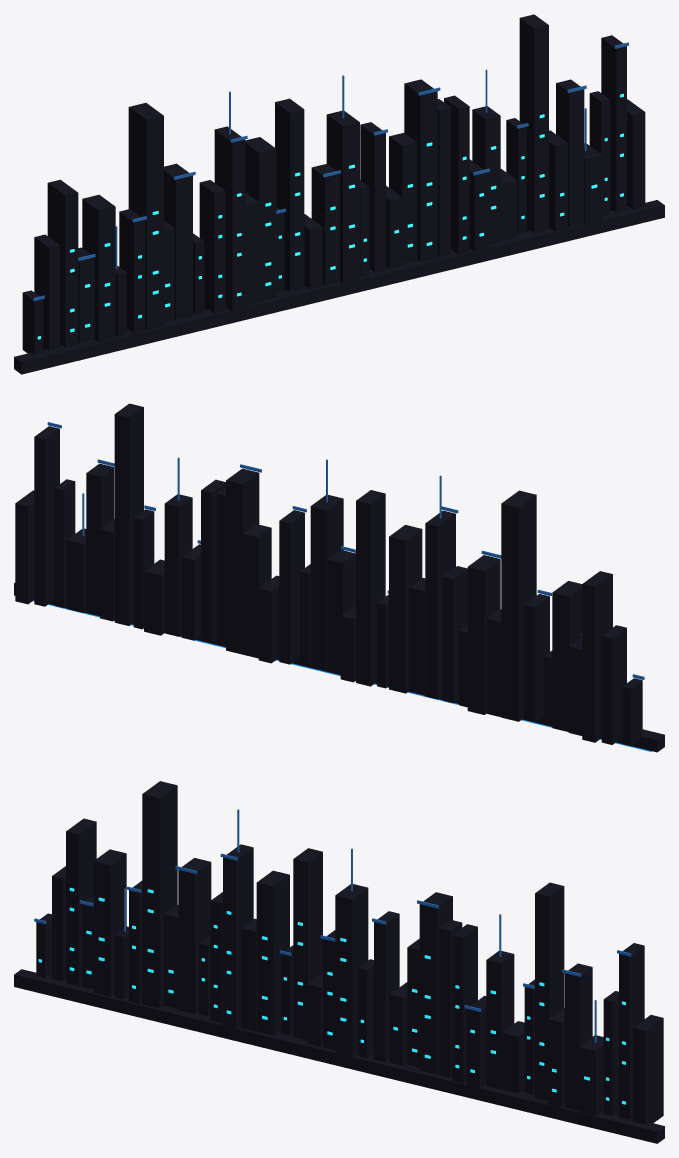
The model's file is anime_lightning_city.glb.
The picture shows the model from 3 angles, top to bottom: view 1: azimuth 30°, elevation 25°; view 2: azimuth 150°, elevation 25°; view 3: azimuth 330°, elevation 25°; orthographic projection.
Parts seen in each view (by area): view 1: foreground_roofline, building_07, building_31, building_16, building_12, building_24, building_19, building_02, building_04, building_14, building_09, building_36 (+27 smaller); view 2: building_07, building_31, building_16, building_24, building_14, building_12, building_19, building_36, building_02, building_09, building_21, building_04 (+27 smaller); view 3: foreground_roofline, building_07, building_31, building_19, building_14, building_16, building_12, building_09, building_04, building_24, building_02, building_36 (+27 smaller).
Boxes of the visible parts, bbox=[...] form: foreground_roofline: bbox=[14, 200, 664, 374]; building_07: bbox=[128, 103, 163, 329]; building_31: bbox=[519, 14, 548, 233]; building_16: bbox=[275, 98, 304, 291]; building_12: bbox=[214, 126, 245, 315]; building_24: bbox=[404, 79, 437, 261]; building_19: bbox=[326, 111, 359, 287]; building_02: bbox=[47, 179, 78, 347]; building_04: bbox=[82, 194, 115, 342]; building_14: bbox=[245, 137, 276, 301]; building_09: bbox=[164, 163, 192, 319]; building_36: bbox=[601, 35, 626, 211]; building_07: bbox=[501, 490, 536, 721]; building_31: bbox=[114, 403, 143, 625]; building_16: bbox=[356, 490, 385, 686]; building_24: bbox=[226, 468, 259, 654]; building_14: bbox=[389, 525, 422, 693]; building_12: bbox=[425, 510, 455, 699]; building_19: bbox=[310, 495, 343, 671]; building_36: bbox=[34, 426, 59, 606]; building_02: bbox=[582, 571, 612, 742]; building_09: bbox=[467, 555, 500, 714]; building_21: bbox=[279, 510, 304, 664]; building_04: bbox=[552, 581, 582, 731]; foreground_roofline: bbox=[14, 969, 664, 1143]; building_07: bbox=[142, 781, 177, 1008]; building_31: bbox=[535, 882, 564, 1100]; building_19: bbox=[335, 884, 368, 1060]; building_14: bbox=[256, 870, 289, 1035]; building_16: bbox=[293, 848, 322, 1040]; building_12: bbox=[223, 844, 253, 1033]; building_09: bbox=[178, 858, 211, 1013]; building_04: bbox=[93, 849, 126, 996]; building_24: bbox=[419, 892, 452, 1074]; building_02: bbox=[66, 818, 96, 986]; building_36: bbox=[619, 943, 644, 1119].
Size of the model in its own units: 8.8 by 2.96 by 0.5559.
